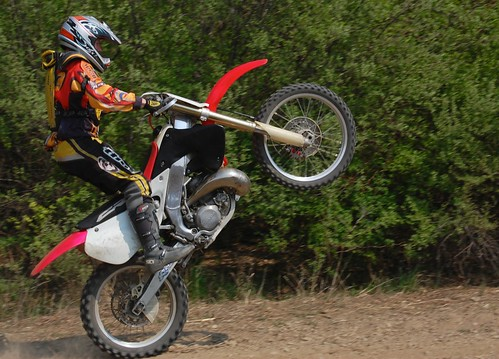helmet: (54, 8, 121, 68)
